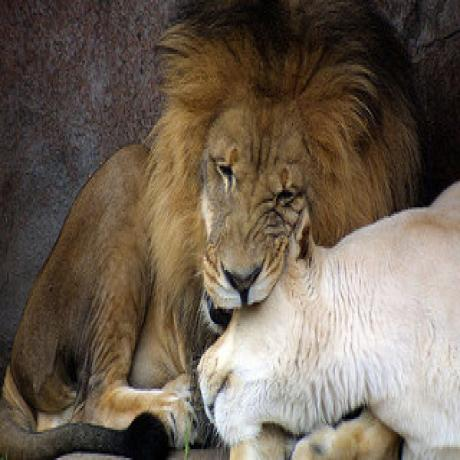Lion: (0, 0, 416, 459), (204, 225, 460, 460)
